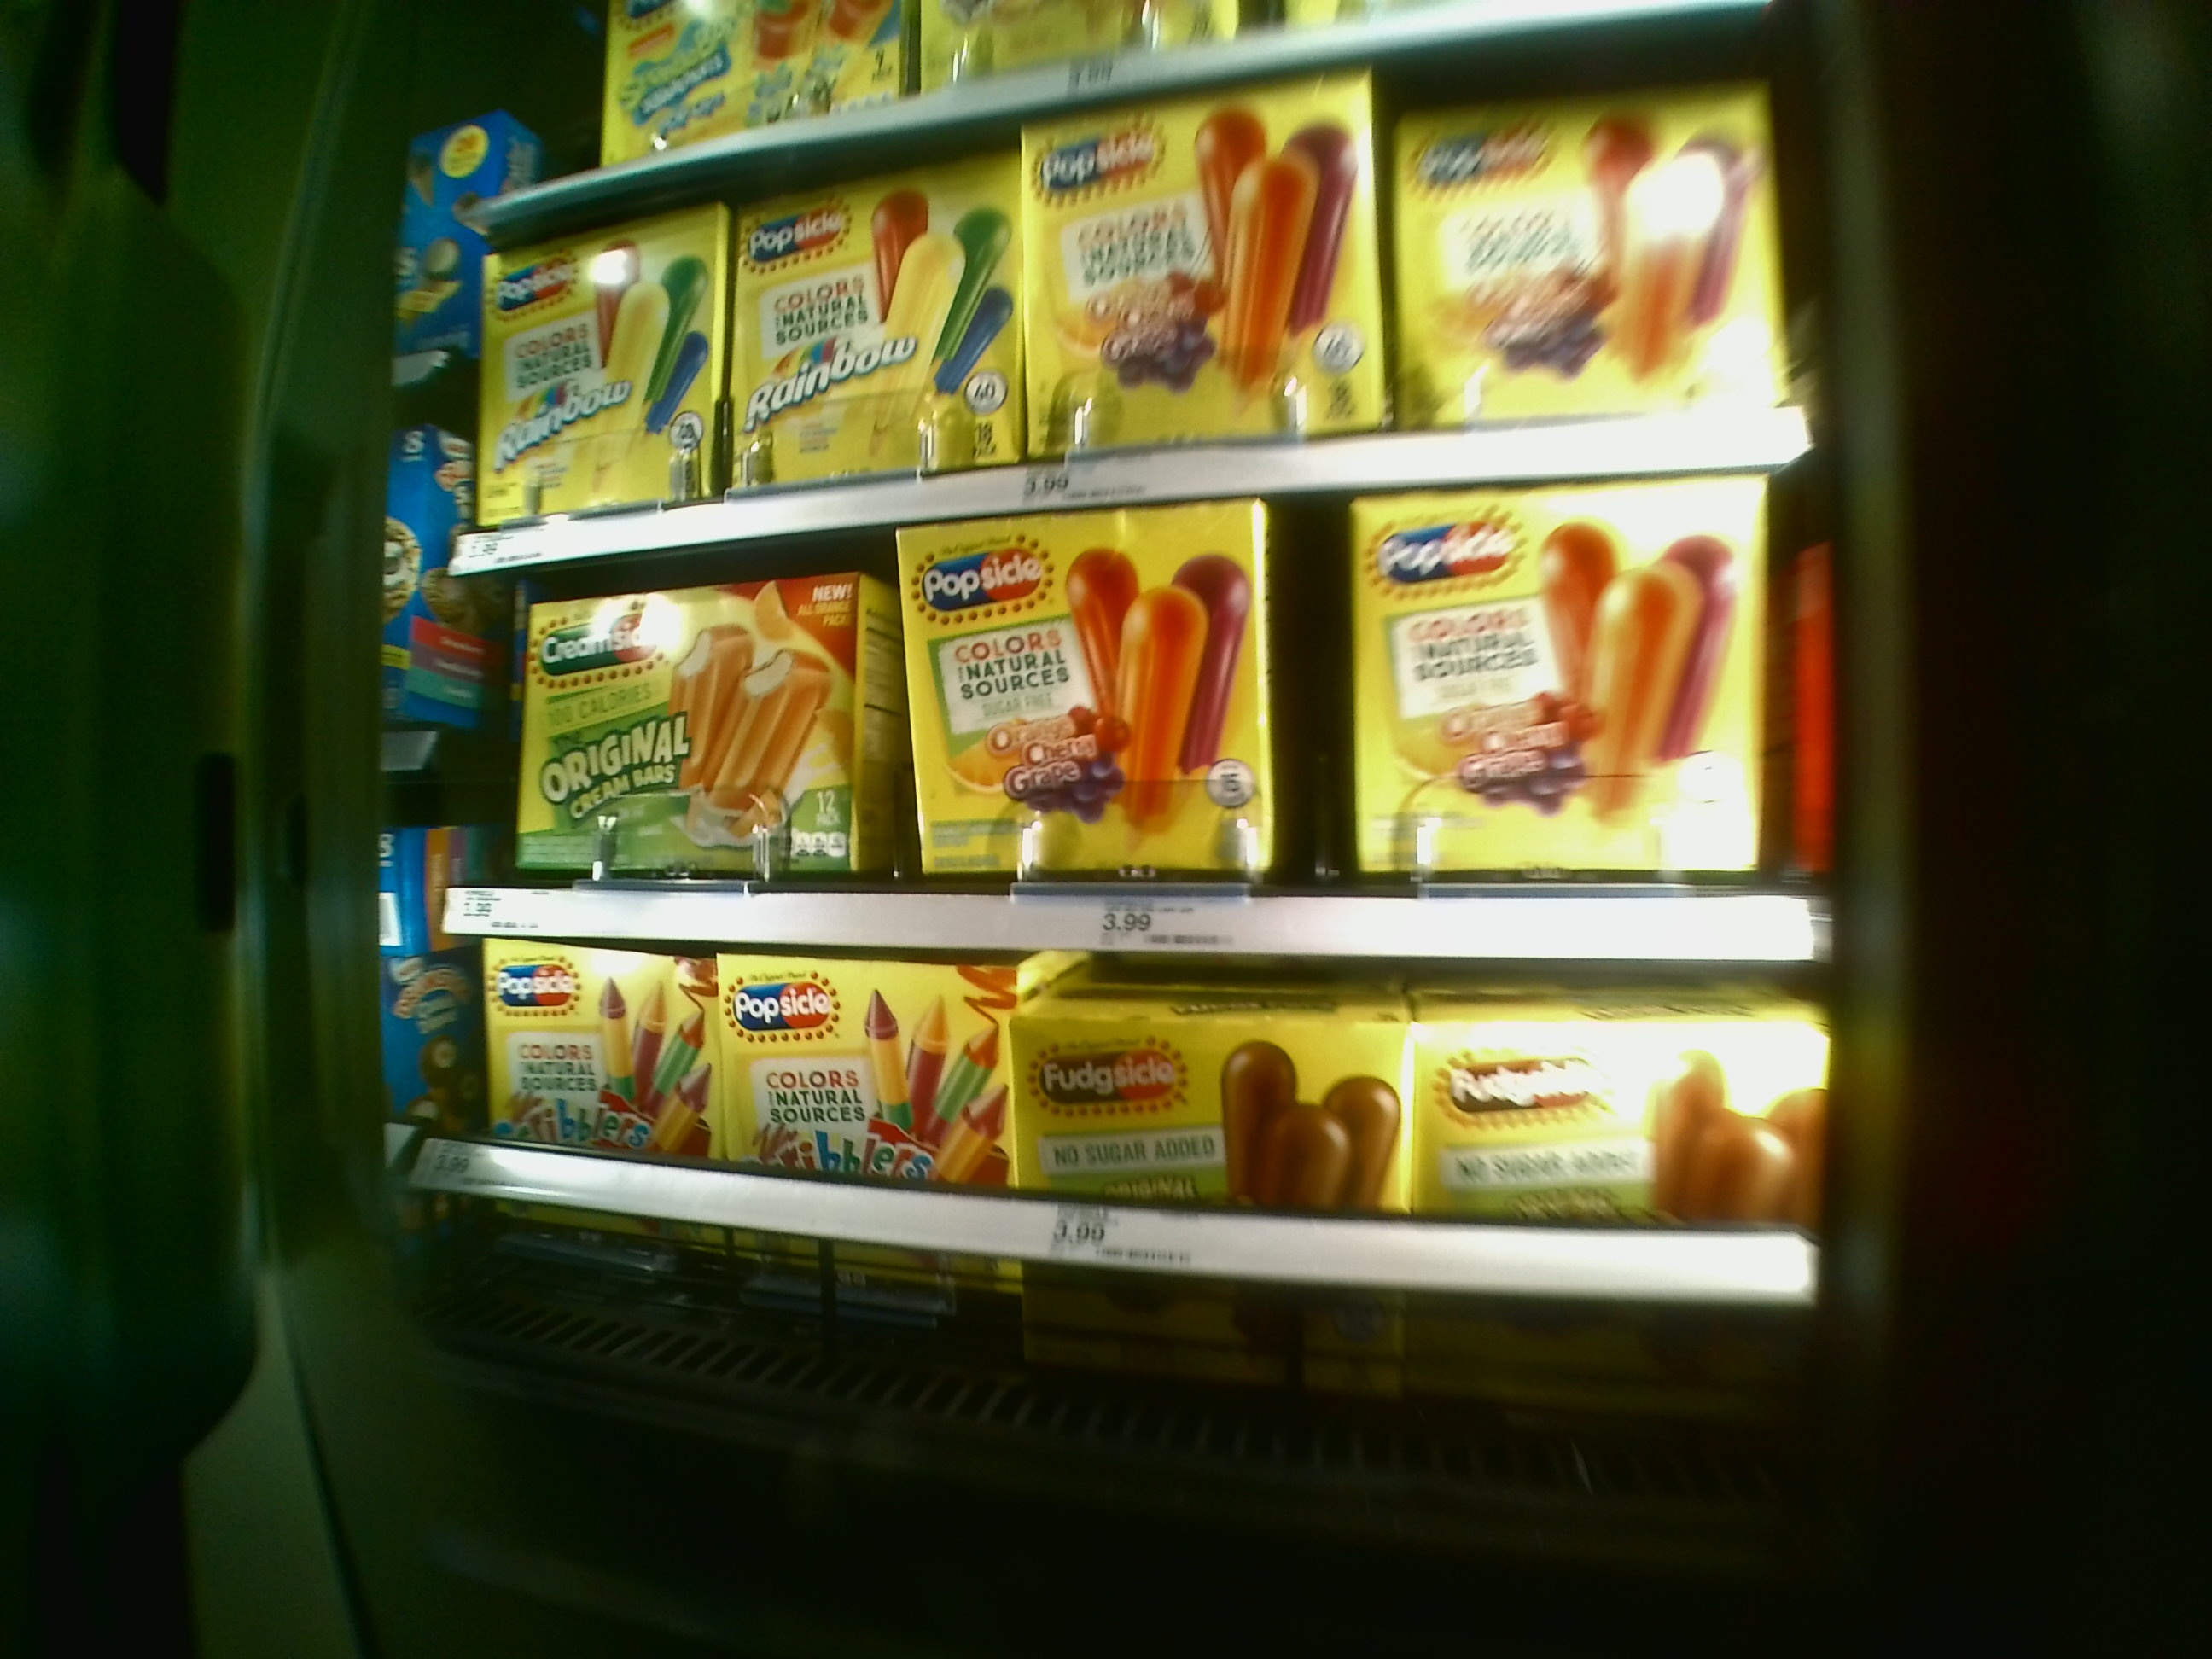shelf: (472, 943, 1787, 1427), (462, 505, 1831, 958)
